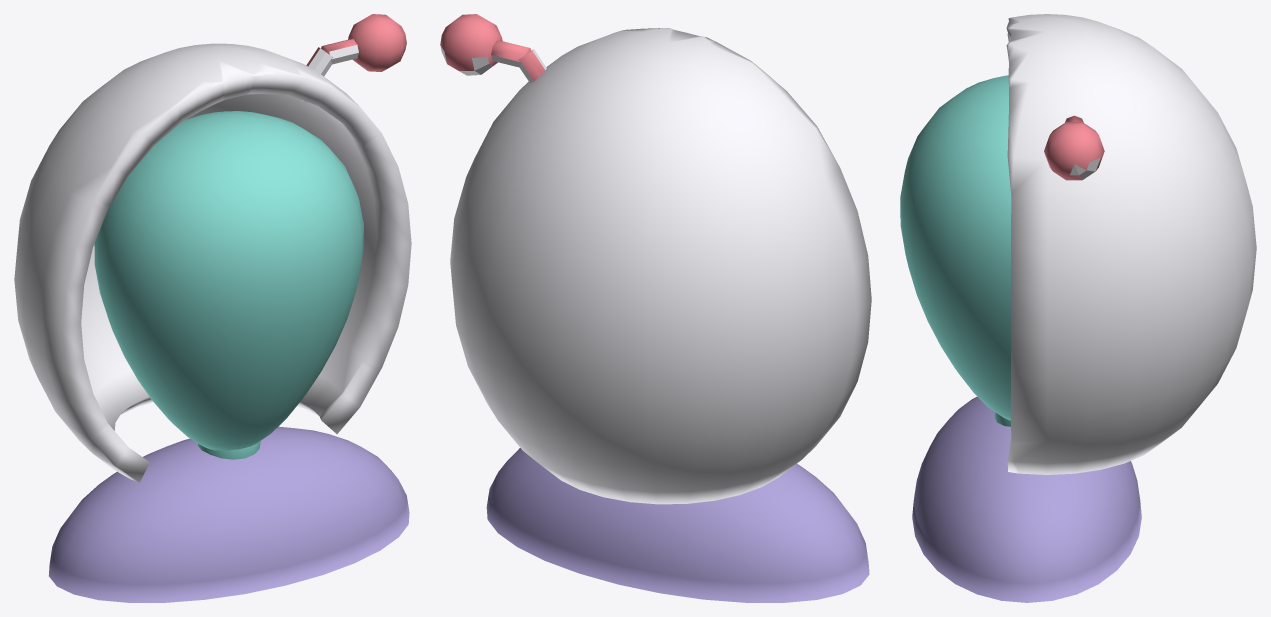
File: head_castaway.glb
3 views of the same model, side by side, from view 1: azimuth 30°, elevation 25°; view 2: azimuth 150°, elevation 25°; view 3: azimuth 270°, elevation 25° (orthographic). The views are drawn at different scales.
Parts seen in each view (by area): view 1: CastawayHead, CastawayHelmet, CastawayShoulders, CastawayStalk; view 2: CastawayHelmet, CastawayShoulders, CastawayStalk; view 3: CastawayHelmet, CastawayShoulders, CastawayHead, CastawayStalk.
Boxes of the visible parts, x1,y1,x2,y2 form: CastawayHead: (94,111,363,450); CastawayHelmet: (14,43,411,482); CastawayShoulders: (48,426,409,602); CastawayStalk: (302,14,406,102); CastawayHelmet: (450,28,871,504); CastawayShoulders: (486,448,869,602); CastawayStalk: (440,14,546,83); CastawayHelmet: (1006,14,1256,474); CastawayShoulders: (912,396,1141,602); CastawayHead: (900,75,1011,420); CastawayStalk: (1044,114,1104,180).
Size of the model in its own units: 0.6532 by 0.7935 by 0.5277.
